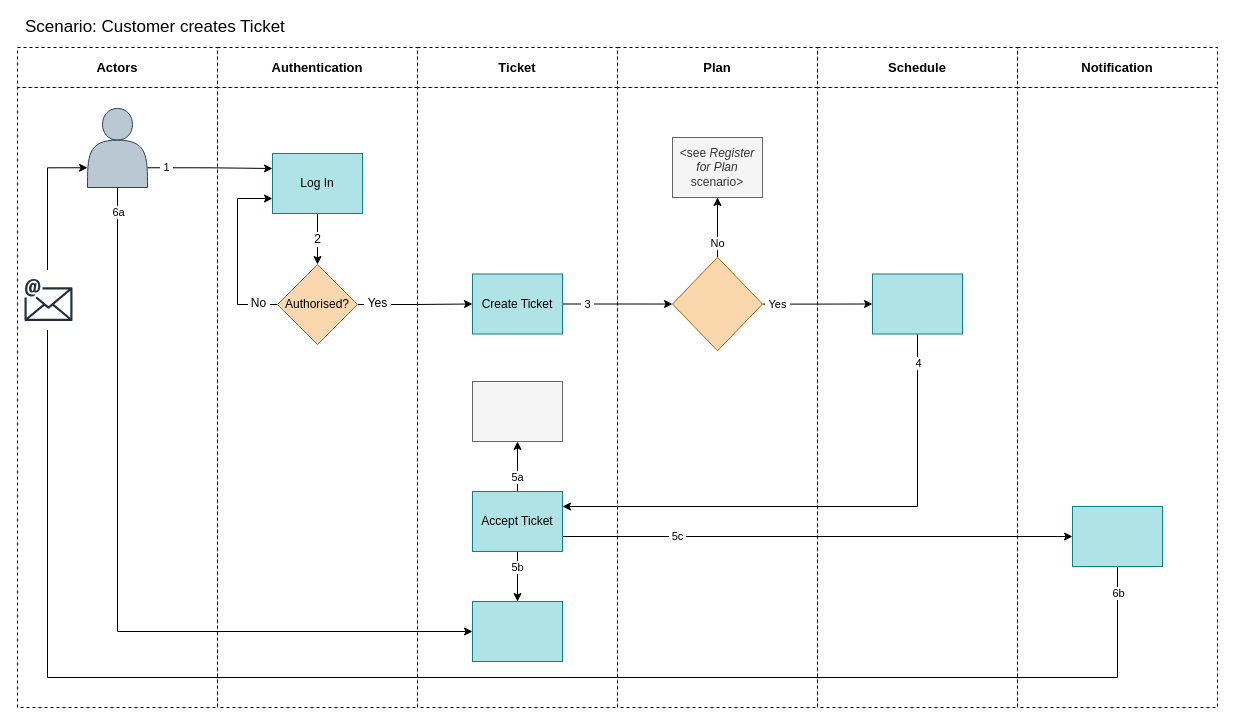
Some shapes in this 1235 by 725 pixel diagram are drawn without their labels. The centre of each missing label's shape, as x and y in pixels:
"<see Ticket Created scenario>" belongs at (x=517, y=411).
"Customer" belongs at (x=117, y=148).
"Is Plan Valid?" belongs at (x=717, y=303).
"Select Visit Appointment(s)" belongs at (x=917, y=303).
"Send email confirmation" belongs at (x=1117, y=536).
"Show Confirmation" belongs at (x=517, y=631).
